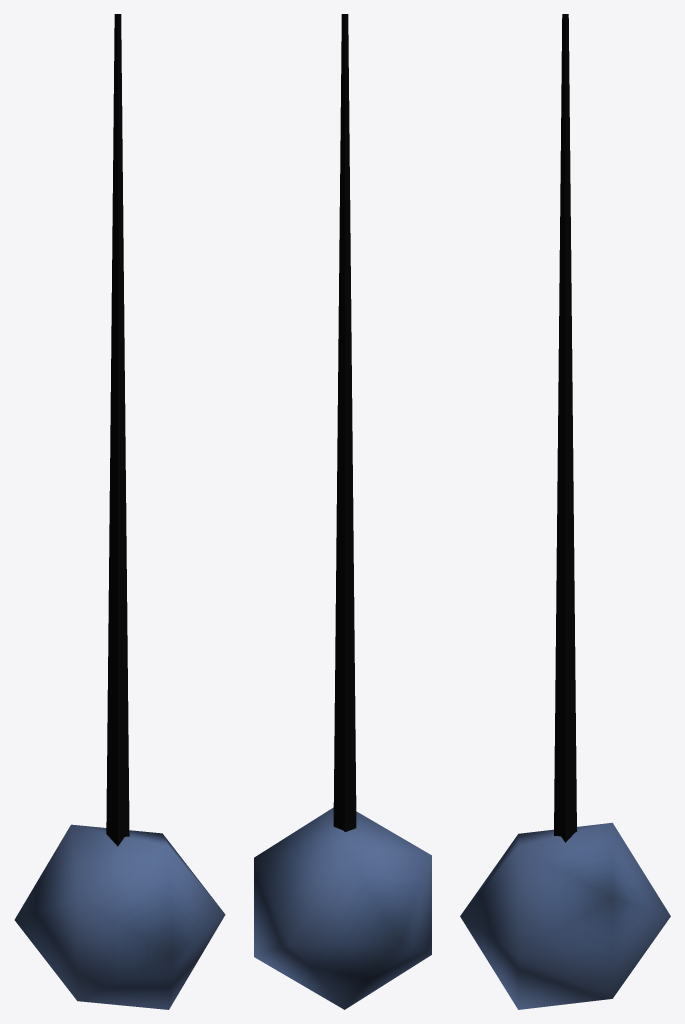
File: LampSphere_Blue.fbx
The picture shows the model from 3 angles, left to right: view 1: azimuth 30°, elevation 25°; view 2: azimuth 150°, elevation 25°; view 3: azimuth 270°, elevation 25°; orthographic projection.
Visible parts, largest first — view 1: LampSphere_Blue; view 2: LampSphere_Blue; view 3: LampSphere_Blue.
Part boxes in pixels (x1,y1,x2,y2): LampSphere_Blue: (14,14,225,1009); LampSphere_Blue: (254,14,431,1009); LampSphere_Blue: (460,14,670,1009).
Bounding box in the file's own units: 21.11 × 121 × 23.61.
